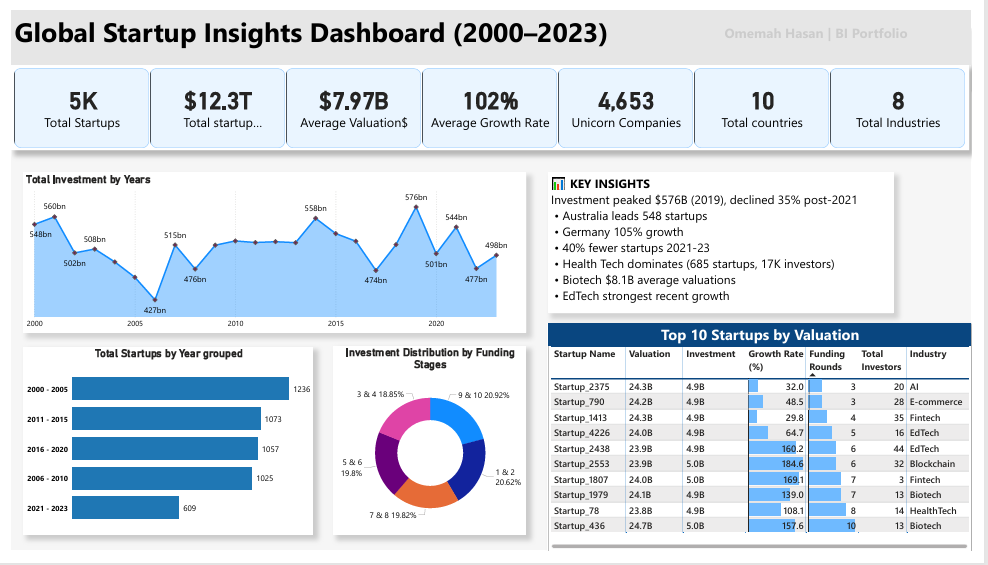

What the dashboard file says about the page in this screenshot:
{"tool":"powerbi","page":{"name":"Main_page","canvas":[1920,1080],"ordinal":0},"visuals":[{"type":"cardVisual","fields":{"Data":["startup_growth_investment_data.Total Startups","startup_growth_investment_data.Total startup investment","startup_growth_investment_data.Average Valuation$","startup_growth_investment_data.Average Growth Rate","startup_growth_investment_data.Unicorn Companies","startup_growth_investment_data.Total countries","startup_growth_investment_data.Total Industries"]},"box":[0,110.2,1916.3,169.4],"z":0},{"type":"textbox","box":[0,0,1920,110],"z":1000},{"type":"barChart","fields":{"Category":["startup_growth_investment_data.Year grouped"],"Y":["startup_growth_investment_data.Total Startups"]},"box":[24.2,672.7,578.8,375.8],"z":2000},{"type":"tableEx","title":"Top  10  Startups  by  Valuation","fields":{"Values":["startup_growth_investment_data.Startup Name","startup_growth_investment_data.Valuation","startup_growth_investment_data.Investment","startup_growth_investment_data.Growth Rate (%)","startup_growth_investment_data.Funding Rounds","startup_growth_investment_data.Total Investors","startup_growth_investment_data.Industry"]},"box":[1072.2,625,847.2,455.6],"z":3000},{"type":"donutChart","title":"Investment Distribution by Funding Stages","fields":{"Y":["startup_growth_investment_data.Total Investment Amount"],"Category":["startup_growth_investment_data.Funding Rounds levels"]},"box":[644.4,671.1,384.4,377.8],"z":4000},{"type":"areaChart","title":" Total Investment  by Years","fields":{"Category":["startup_growth_investment_data.Year Founded"],"Y":["startup_growth_investment_data.Total Investment Amount"]},"box":[24.2,324.2,1006.1,321.2],"z":5000},{"type":"textbox","box":[1072.7,324.2,690.9,281.8],"z":6000},{"type":"textbox","box":[1420,20,495,60],"z":7000}]}

Visuals, with their boxes in screenshot pixels (x1, y1, x2, y2), scaled from the page's 1920x1080 canvas onto the 988x565 screenshot:
cardVisual - startup_growth_investment_data.Total Startups x startup_growth_investment_data.Total startup investment: 0,58,986,146
textbox: 0,0,987,58
barChart - startup_growth_investment_data.Year grouped x startup_growth_investment_data.Total Startups: 12,352,310,549
"Top  10  Startups  by  Valuation" tableEx: 552,327,987,564
"Investment Distribution by Funding Stages" donutChart: 332,351,529,549
" Total Investment  by Years" areaChart: 12,170,530,338
textbox: 552,170,908,317
textbox: 731,10,985,42
